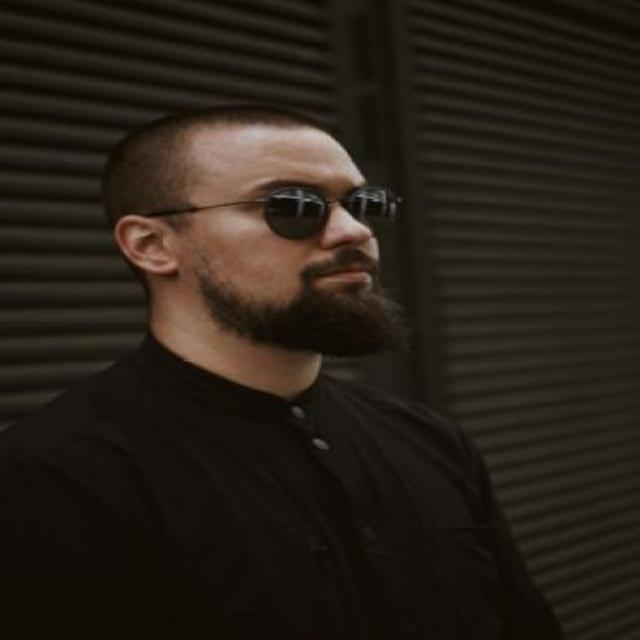glasses: (142, 183, 402, 241)
